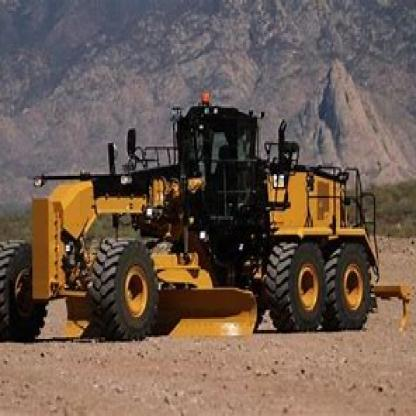bull_dozer/loader/grader: (4, 93, 405, 352)
